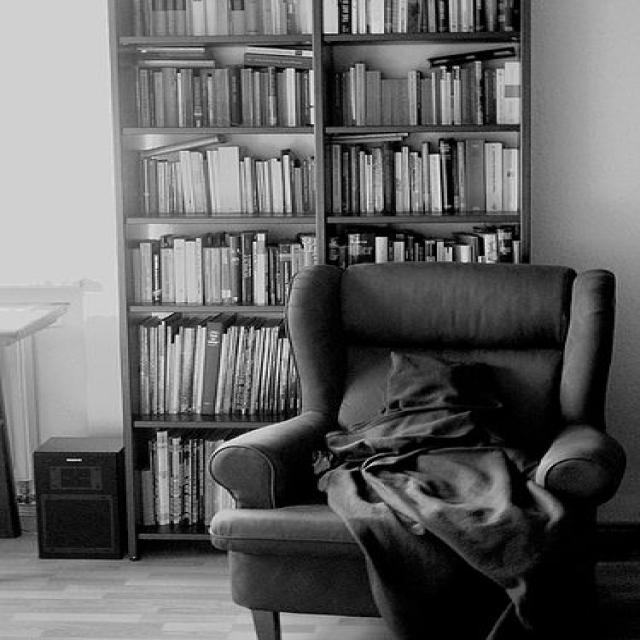chair: (206, 262, 631, 640)
